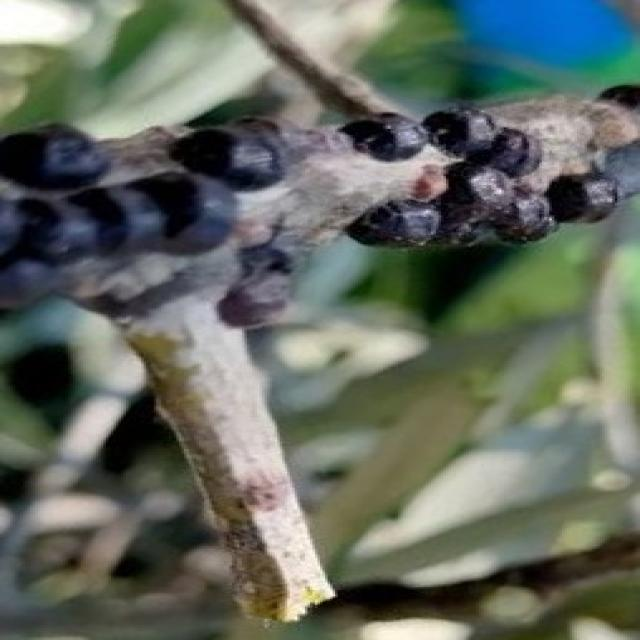Black Scale: (0, 173, 232, 306), (348, 158, 617, 249), (171, 118, 292, 190), (0, 123, 108, 190), (338, 112, 431, 161), (466, 127, 537, 177), (426, 108, 496, 156)
